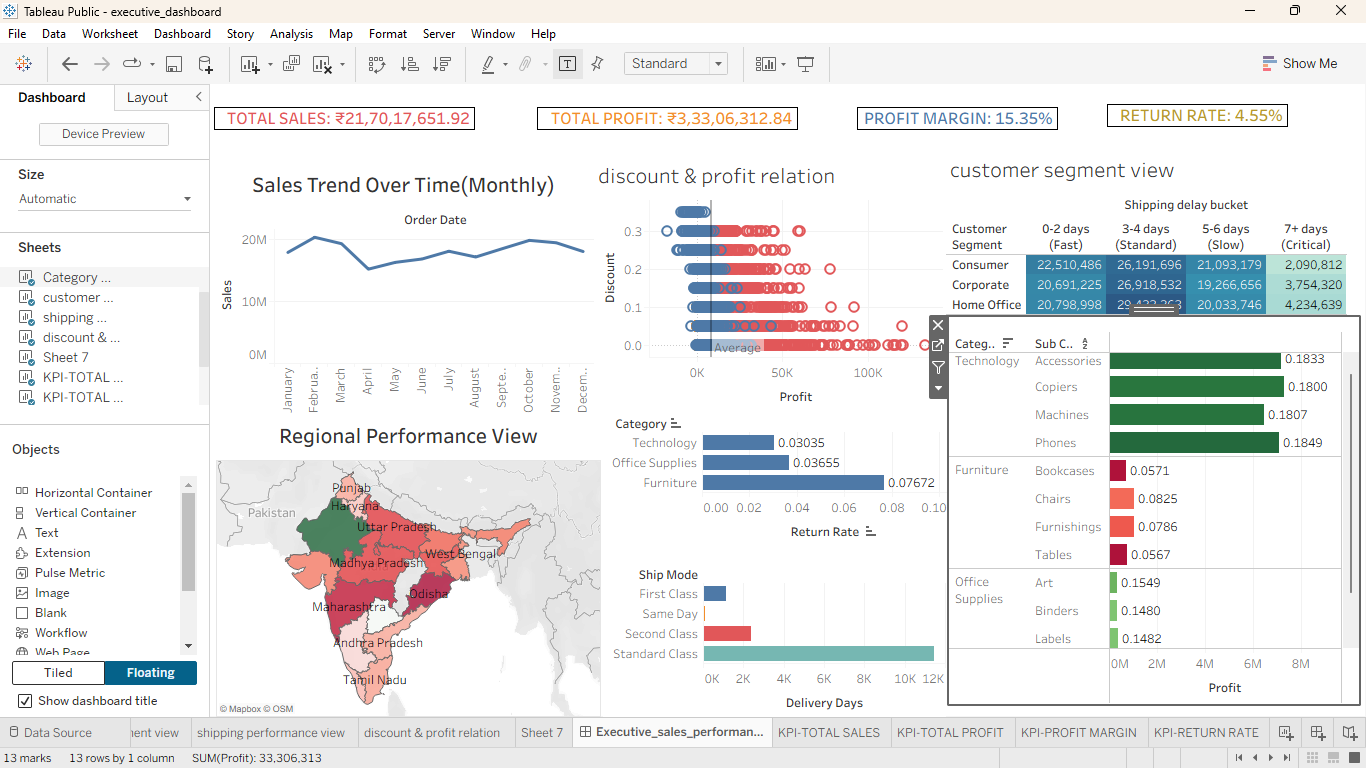

The page's visual inventory and layout, read from the dashboard file:
{"tool":"tableau","page":{"name":"Executive_sales_performance_dashboard","canvas":[1000,1000],"units":"permille","ordinal":0},"visuals":[{"type":"worksheet","title":"KPI-RETURN RATE","mark":"Automatic","box":[776.6,7.9,217.3,110.8]},{"type":"worksheet","title":"KPI-TOTAL SALES","mark":"Automatic","box":[3.5,12.7,275.3,125]},{"type":"worksheet","title":"KPI-TOTAL PROFIT","mark":"Automatic","box":[283.1,12.7,272.7,123.4]},{"type":"worksheet","title":"KPI-PROFIT MARGIN","mark":"Automatic","box":[560.2,12.7,204.3,104.4]},{"type":"worksheet","title":"customer segment view","mark":"Square","rows":["customer_segment"],"cols":["Calculation_0726518959407110"],"box":[637.2,106,348.9,267.4]},{"type":"worksheet","title":"discount & profit relation","mark":"Automatic","rows":["discount"],"cols":["profit"],"box":[332.5,115.5,302.2,403.5]},{"type":"worksheet","title":"Sales trend over time","mark":"Automatic","rows":["sales"],"cols":["order_date"],"box":[0.9,129.8,333.3,394]},{"type":"worksheet","title":"Category profitability","mark":"Automatic","rows":["category","sub_category"],"cols":["profit"],"box":[639.8,394,355,587]},{"type":"worksheet","title":"Regional performance","mark":"Automatic","box":[5.2,526.9,333.3,474.7]},{"type":"worksheet","title":"Return analysis view","mark":"Automatic","rows":["category"],"cols":["Calculation_0726518980378631"],"box":[339.4,533.2,299.6,208.9]}]}

Visuals, with their boxes on the dashboard's canvas, which has no fixed pixel size, in thousandths of its width and height (x1, y1, x2, y2). These are canvas units, not pixel positions in the 1366x768 screenshot, which may show the page scaled, cropped or inside an application window:
"KPI-RETURN RATE" worksheet: [x1=777, y1=8, x2=994, y2=119]
"KPI-TOTAL SALES" worksheet: [x1=4, y1=13, x2=279, y2=138]
"KPI-TOTAL PROFIT" worksheet: [x1=283, y1=13, x2=556, y2=136]
"KPI-PROFIT MARGIN" worksheet: [x1=560, y1=13, x2=764, y2=117]
"customer segment view" worksheet (Square marks): [x1=637, y1=106, x2=986, y2=373]
"discount & profit relation" worksheet: [x1=332, y1=116, x2=635, y2=519]
"Sales trend over time" worksheet: [x1=1, y1=130, x2=334, y2=524]
"Category profitability" worksheet: [x1=640, y1=394, x2=995, y2=981]
"Regional performance" worksheet: [x1=5, y1=527, x2=338, y2=1002]
"Return analysis view" worksheet: [x1=339, y1=533, x2=639, y2=742]
